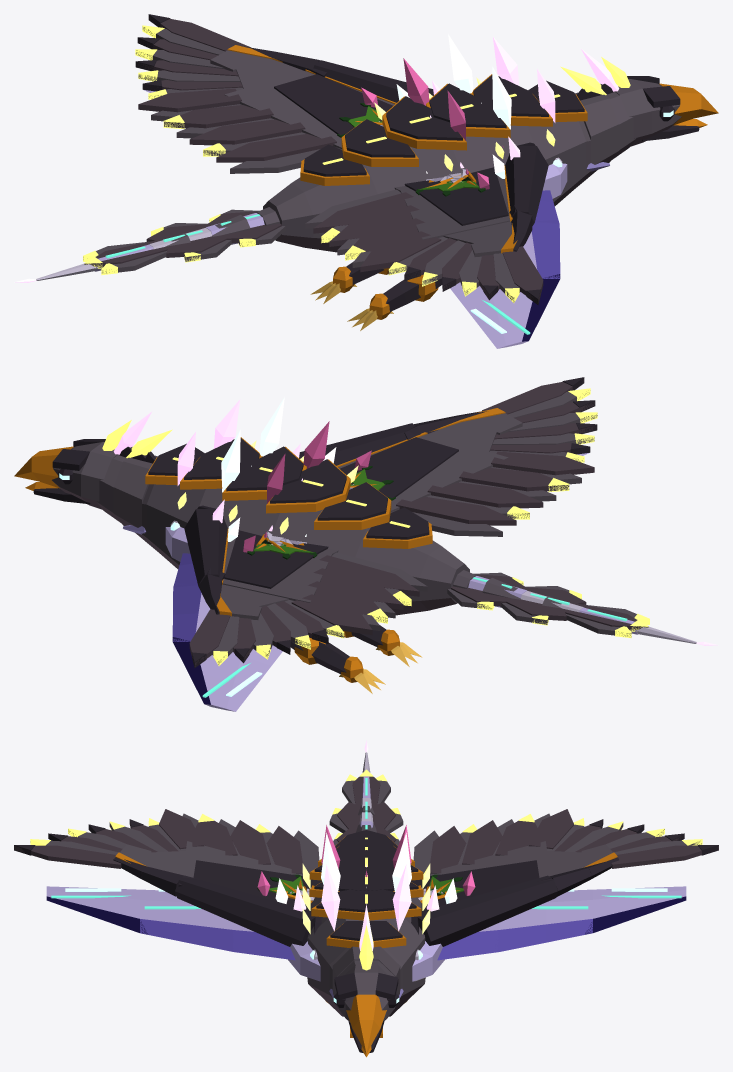
Rendered from creatures_mid.fbx.
3 views of the same model, one above another, from view 1: azimuth 30°, elevation 25°; view 2: azimuth 150°, elevation 25°; view 3: azimuth 270°, elevation 25° (orthographic). The views are drawn at different scales.
Parts seen in each view (by area): view 1: hubprop_ashen_roc, hubprop_ashen_roc__wing_1, hubprop_ashen_roc__wing_2, hubprop_ashen_roc__pinion_1, hubprop_ashen_roc__wingtip_1, hubprop_ashen_roc__pinion_2, hubprop_ashen_roc__head_1, hubprop_ashen_roc__wingtip_2, hubprop_aether_manta__fin_6, hubprop_ashen_roc__tail_2, hubprop_aether_manta__fin_5, hubprop_ashen_roc__neck_1 (+8 smaller); view 2: hubprop_ashen_roc, hubprop_ashen_roc__wing_2, hubprop_ashen_roc__wing_1, hubprop_ashen_roc__pinion_2, hubprop_ashen_roc__wingtip_2, hubprop_ashen_roc__pinion_1, hubprop_ashen_roc__head_1, hubprop_ashen_roc__wingtip_1, hubprop_aether_manta__fin_3, hubprop_ashen_roc__tail_2, hubprop_aether_manta__fin_2, hubprop_ashen_roc__neck_1 (+9 smaller); view 3: hubprop_ashen_roc__wing_1, hubprop_ashen_roc__wing_2, hubprop_ashen_roc, hubprop_aether_manta__fin_2, hubprop_aether_manta__fin_5, hubprop_ashen_roc__head_1, hubprop_ashen_roc__pinion_1, hubprop_ashen_roc__pinion_2, hubprop_ashen_roc__wingtip_2, hubprop_ashen_roc__wingtip_1, hubprop_aether_manta__fin_6, hubprop_aether_manta__fin_3 (+8 smaller).
Boxes of the visible parts, x1=… form: hubprop_ashen_roc: x1=263, y1=34, x2=596, y2=252; hubprop_ashen_roc__wing_1: x1=138, y1=60, x2=440, y2=173; hubprop_ashen_roc__wing_2: x1=305, y1=136, x2=548, y2=272; hubprop_ashen_roc__pinion_1: x1=135, y1=14, x2=275, y2=71; hubprop_ashen_roc__wingtip_1: x1=135, y1=52, x2=332, y2=99; hubprop_ashen_roc__pinion_2: x1=459, y1=231, x2=543, y2=304; hubprop_ashen_roc__head_1: x1=614, y1=76, x2=718, y2=146; hubprop_ashen_roc__wingtip_2: x1=388, y1=205, x2=532, y2=291; hubprop_aether_manta__fin_6: x1=461, y1=274, x2=560, y2=348; hubprop_ashen_roc__tail_2: x1=146, y1=215, x2=250, y2=262; hubprop_aether_manta__fin_5: x1=450, y1=220, x2=560, y2=302; hubprop_ashen_roc__neck_1: x1=575, y1=92, x2=619, y2=170; hubprop_ashen_roc: x1=136, y1=397, x2=469, y2=615; hubprop_ashen_roc__wing_2: x1=292, y1=423, x2=594, y2=536; hubprop_ashen_roc__wing_1: x1=184, y1=499, x2=427, y2=635; hubprop_ashen_roc__pinion_2: x1=456, y1=377, x2=597, y2=434; hubprop_ashen_roc__wingtip_2: x1=404, y1=416, x2=597, y2=462; hubprop_ashen_roc__pinion_1: x1=189, y1=594, x2=273, y2=667; hubprop_ashen_roc__head_1: x1=14, y1=439, x2=118, y2=509; hubprop_ashen_roc__wingtip_1: x1=198, y1=568, x2=344, y2=654; hubprop_aether_manta__fin_3: x1=172, y1=637, x2=271, y2=711; hubprop_ashen_roc__tail_2: x1=482, y1=578, x2=586, y2=625; hubprop_aether_manta__fin_2: x1=172, y1=583, x2=282, y2=665; hubprop_ashen_roc__neck_1: x1=113, y1=455, x2=157, y2=533; hubprop_ashen_roc__wing_1: x1=411, y1=809, x2=573, y2=946; hubprop_ashen_roc__wing_2: x1=159, y1=809, x2=321, y2=946; hubprop_ashen_roc: x1=307, y1=825, x2=425, y2=1016; hubprop_aether_manta__fin_2: x1=495, y1=888, x2=592, y2=951; hubprop_aether_manta__fin_5: x1=140, y1=888, x2=236, y2=951; hubprop_ashen_roc__head_1: x1=333, y1=964, x2=399, y2=1053; hubprop_ashen_roc__pinion_1: x1=581, y1=828, x2=718, y2=879; hubprop_ashen_roc__pinion_2: x1=14, y1=828, x2=151, y2=878; hubprop_ashen_roc__wingtip_2: x1=88, y1=818, x2=198, y2=897; hubprop_ashen_roc__wingtip_1: x1=537, y1=818, x2=644, y2=897; hubprop_aether_manta__fin_6: x1=46, y1=886, x2=147, y2=934; hubprop_aether_manta__fin_3: x1=585, y1=886, x2=686, y2=934.
Size of the model in its own units: 110 by 34.6 by 106.
